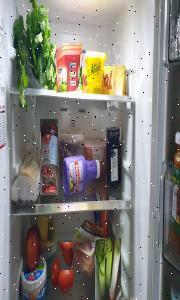Mantequilla: (56, 42, 82, 94)
Manzana: (25, 223, 41, 270)
Tomate: (58, 261, 74, 292), (60, 242, 74, 270), (50, 258, 62, 286)
